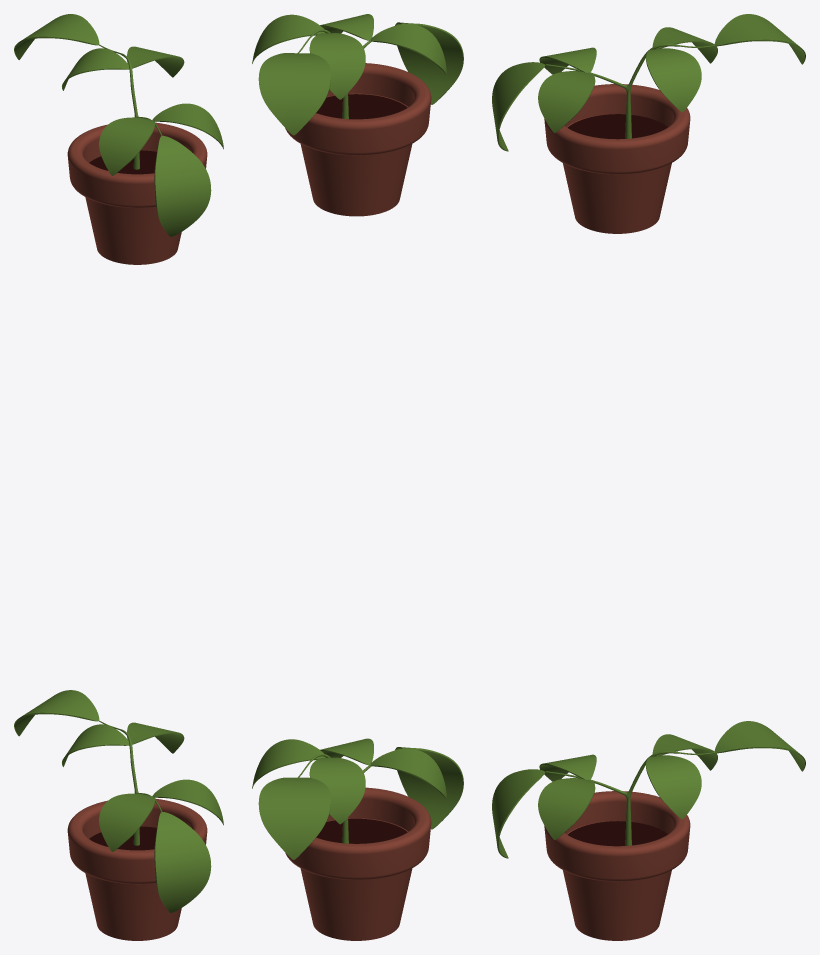
Rendered from Room3-Flower5.glb.
The picture shows the model from 3 angles, left to right: view 1: azimuth 30°, elevation 25°; view 2: azimuth 150°, elevation 25°; view 3: azimuth 270°, elevation 25°; orthographic projection. The views are drawn at different scales.
Visible parts, largest first — view 1: Vase6.001, Vase6; view 2: Vase6, Vase6.001; view 3: Vase6.001, Vase6.
Boxes of the visible parts, x1,y1,x2,y2 form: Vase6.001: [14, 14, 223, 264]; Vase6: [14, 690, 223, 940]; Vase6: [252, 738, 463, 940]; Vase6.001: [252, 14, 463, 216]; Vase6.001: [492, 14, 805, 233]; Vase6: [492, 721, 805, 940].
Size of the model in its own units: 1.77 by 11.18 by 3.57.
